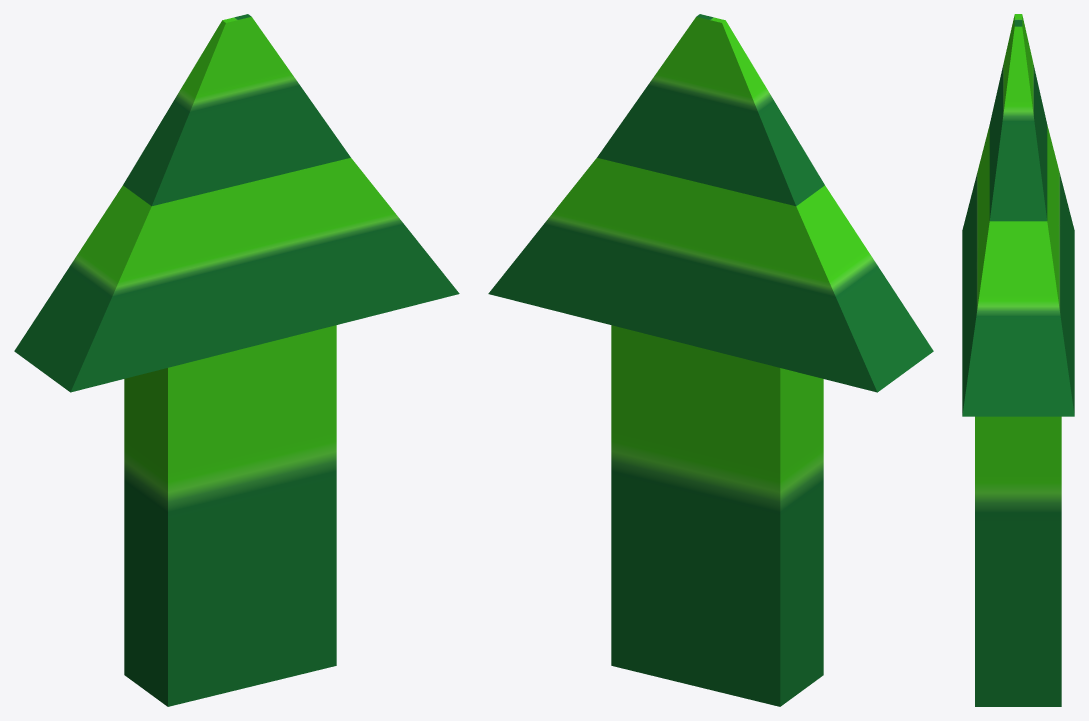
The model's file is SaltoItem.fbx.
3 renders of one model, left to right at view 1: azimuth 30°, elevation 25°; view 2: azimuth 150°, elevation 25°; view 3: azimuth 270°, elevation 25°, orthographic.
Parts seen in each view (by area): view 1: Salto; view 2: Salto; view 3: Salto.
Boxes of the visible parts, box(x1,y1,x2,y2) form: Salto: box(14, 14, 459, 706); Salto: box(488, 14, 933, 706); Salto: box(962, 14, 1074, 706).
Bounding box in the file's own units: 27.4 × 43.73 × 6.86.
